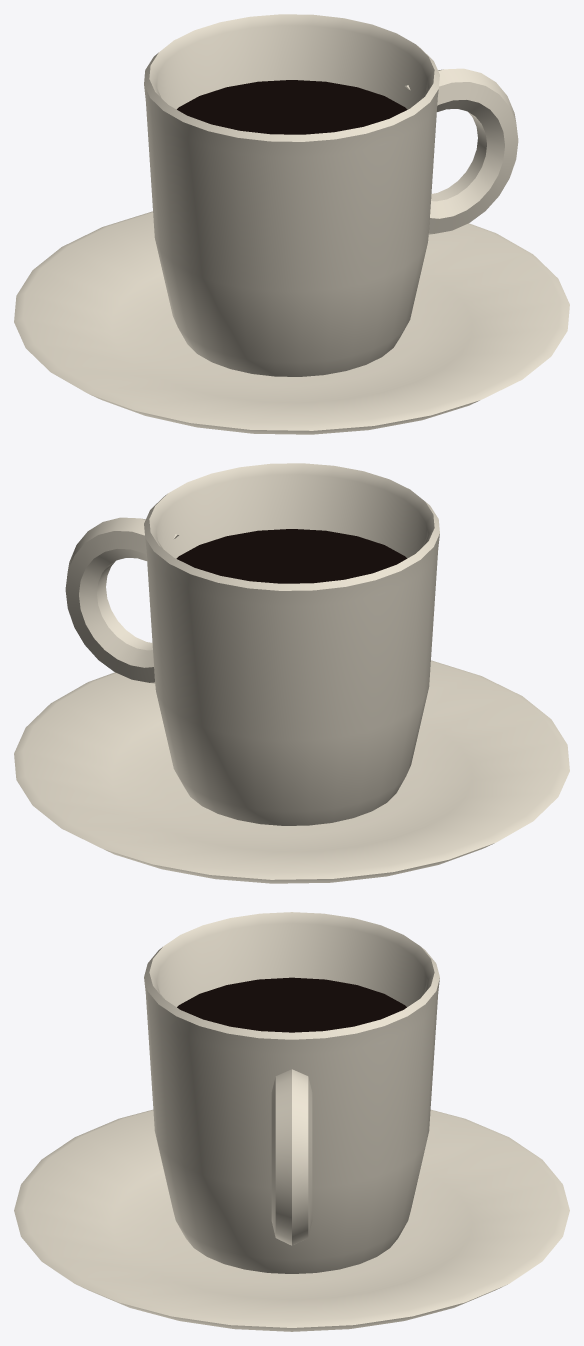
Rendered from arrival-cup.lod0.glb.
3 views of the same model, one above another, from view 1: azimuth 30°, elevation 25°; view 2: azimuth 150°, elevation 25°; view 3: azimuth 270°, elevation 25° (orthographic).
Visible parts, largest first — view 1: arrival_cup_Stoneware • oat glaze, arrival_cup_Trim • brass and bronze; view 2: arrival_cup_Stoneware • oat glaze, arrival_cup_Trim • brass and bronze; view 3: arrival_cup_Stoneware • oat glaze, arrival_cup_Trim • brass and bronze.
Part boxes in pixels (bbox=[...]): arrival_cup_Stoneware • oat glaze: bbox=[14, 14, 569, 434]; arrival_cup_Trim • brass and bronze: bbox=[177, 80, 407, 134]; arrival_cup_Stoneware • oat glaze: bbox=[14, 463, 569, 883]; arrival_cup_Trim • brass and bronze: bbox=[176, 529, 406, 583]; arrival_cup_Stoneware • oat glaze: bbox=[14, 912, 569, 1331]; arrival_cup_Trim • brass and bronze: bbox=[177, 977, 406, 1032].
Bounding box in the file's own units: 0.154 × 0.0853 × 0.154.
Materials: 2 (1 with a texture image).
